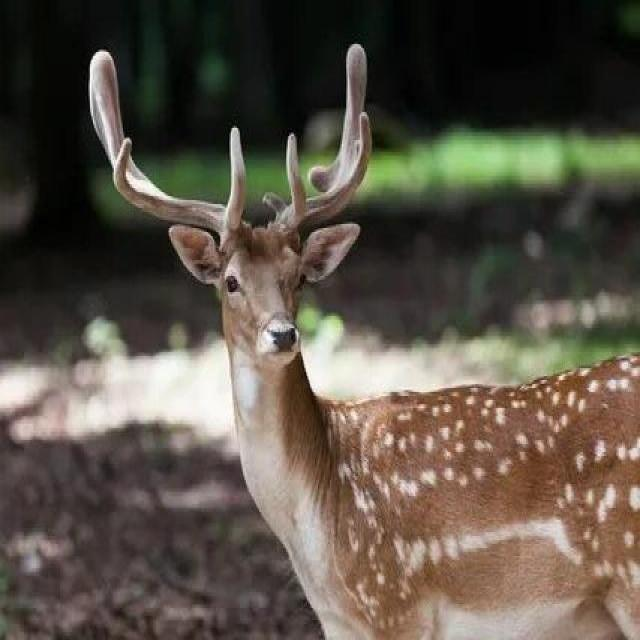deer: (92, 55, 626, 636)
